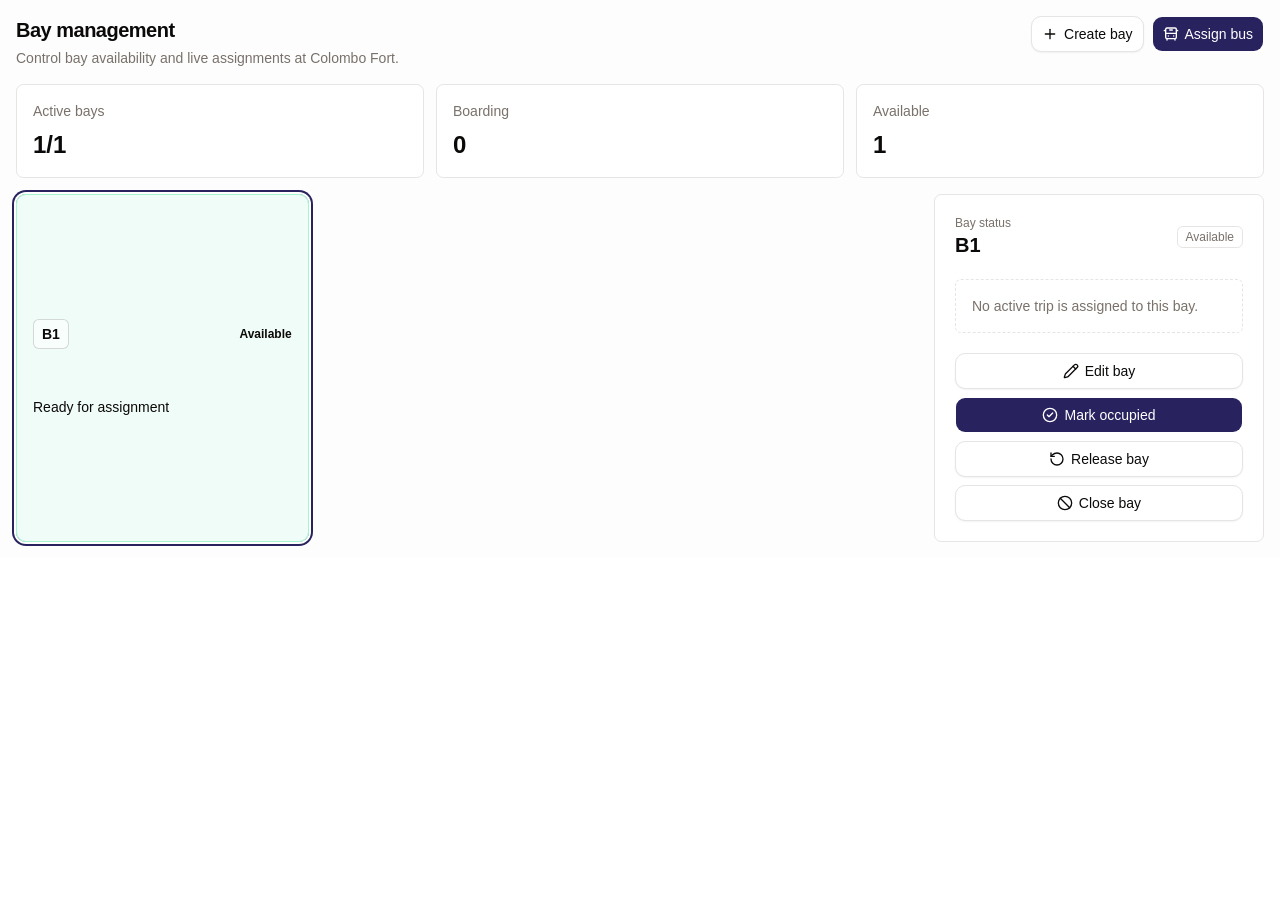
Test: BayManagementPage › shows the API message and keeps the dialog open when the bay code already exists
Click the button "Create bay": (1087, 34) [1031,16,1144,52]
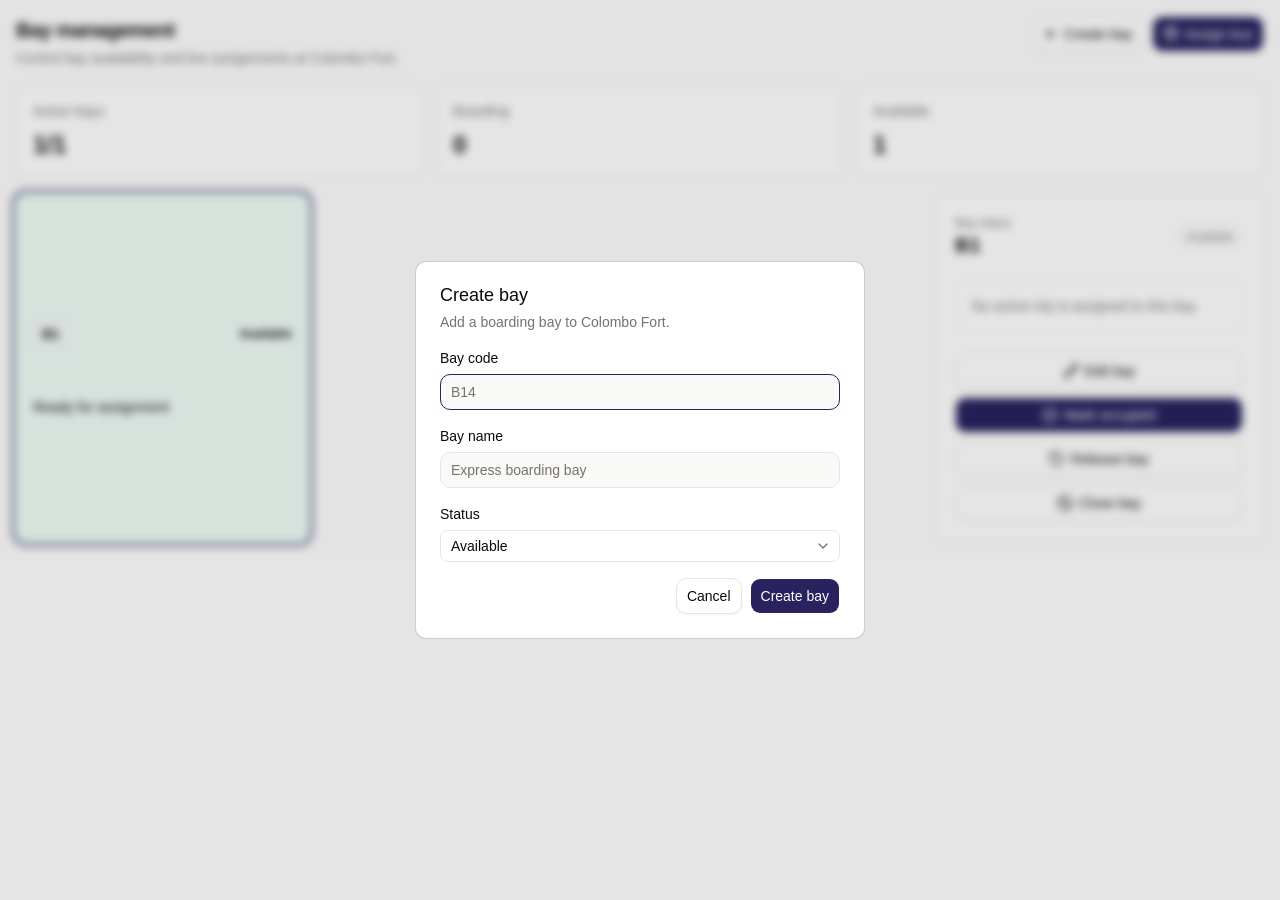
In the field with placeholder "B14": (640, 392) [440,374,840,410], type "B1"
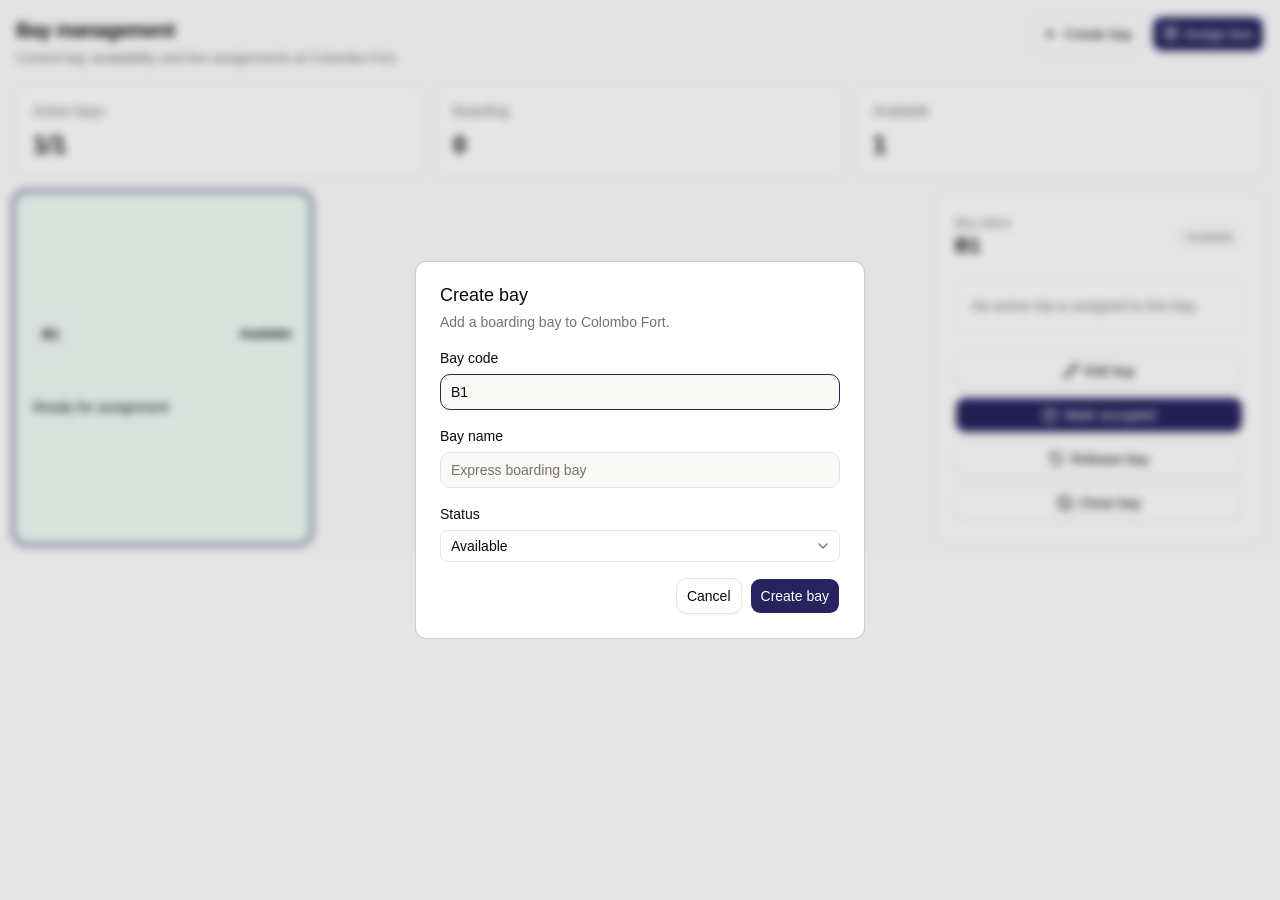
Click the button "Create bay": (795, 596) [750,578,840,614]
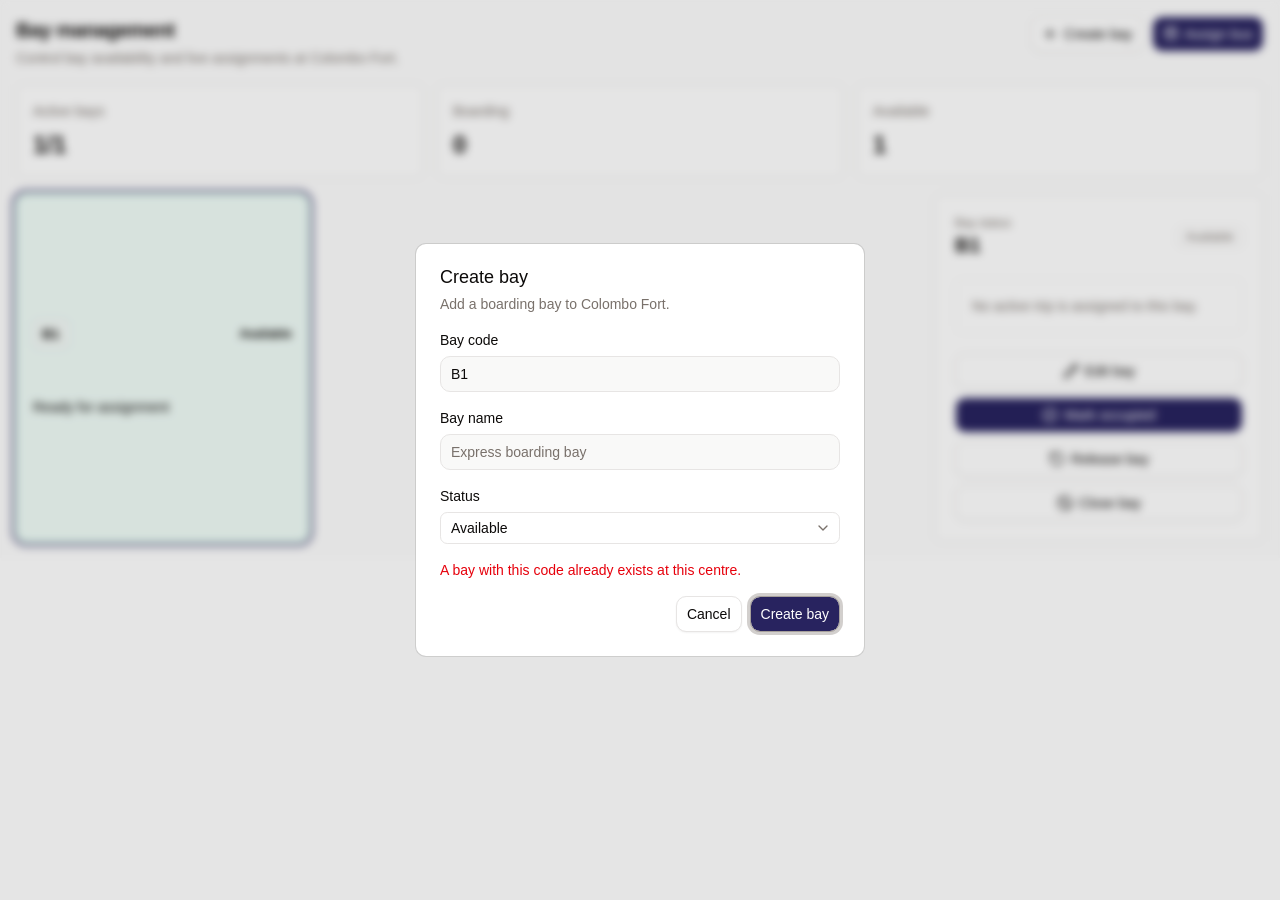
Expected: the text "A bay with this code already exists at this centre." is shown, [440,562,741,578]
